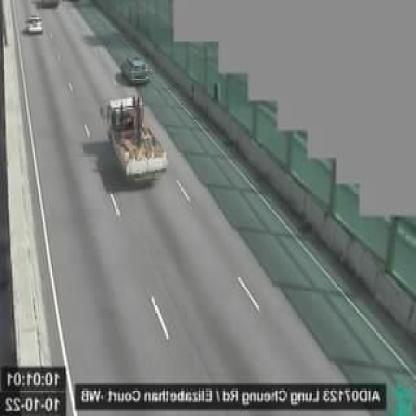Car: (121, 54, 150, 84), (27, 15, 43, 33)
Truck: (105, 95, 169, 182)
